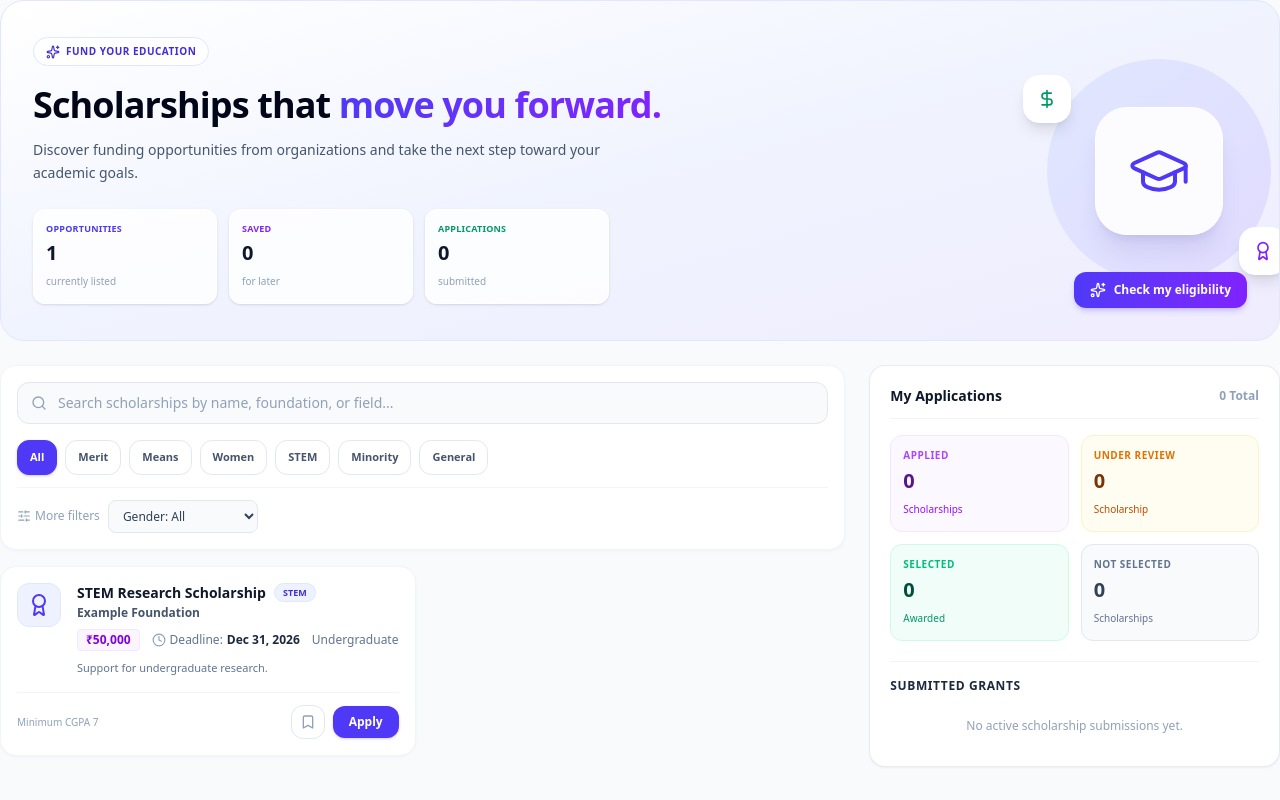
Test: scholarship finder › keeps the shared search connected to the opportunity list
The image size is (1280, 800).
Type "not listed" into the field with placeholder "Search scholarships by name, foundation, or field..." at (423, 403), box [17, 382, 828, 424]
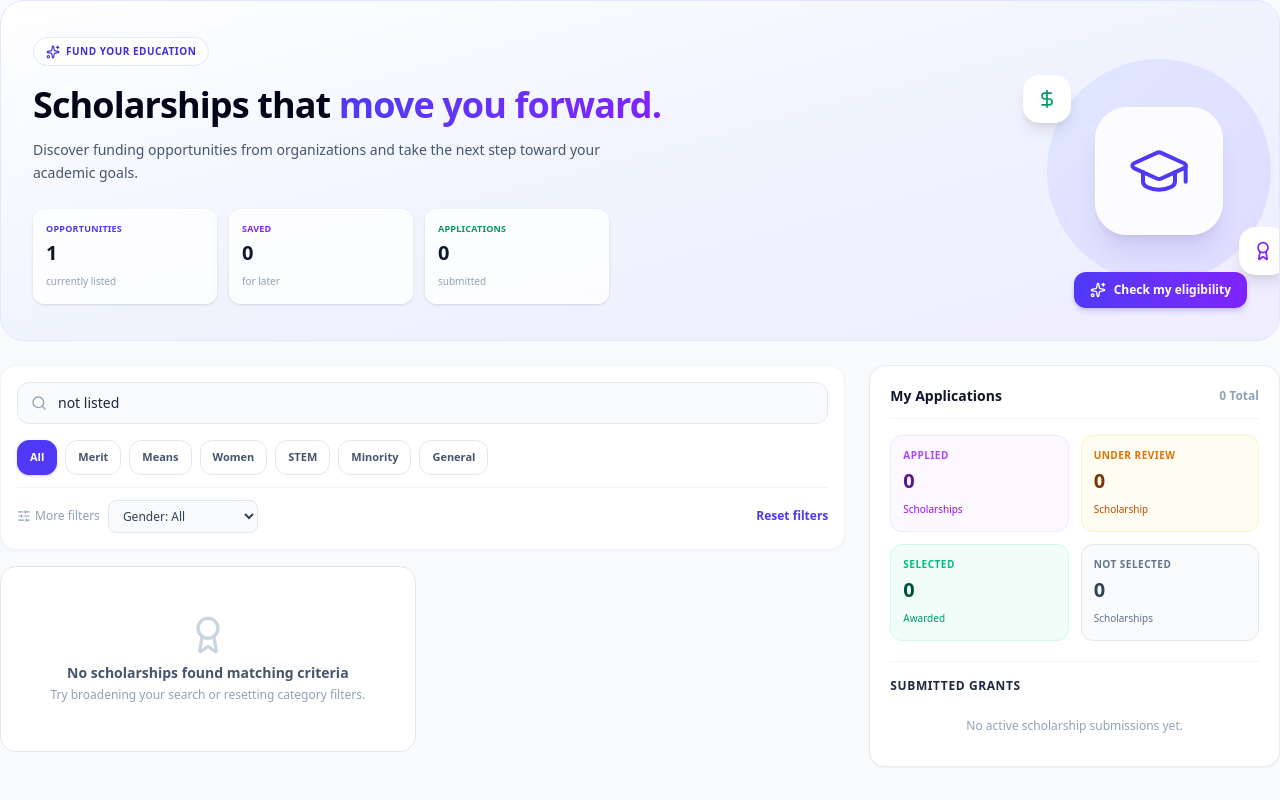
expect the text "No scholarships found matching criteria" is shown: met, box [49, 662, 367, 682]
